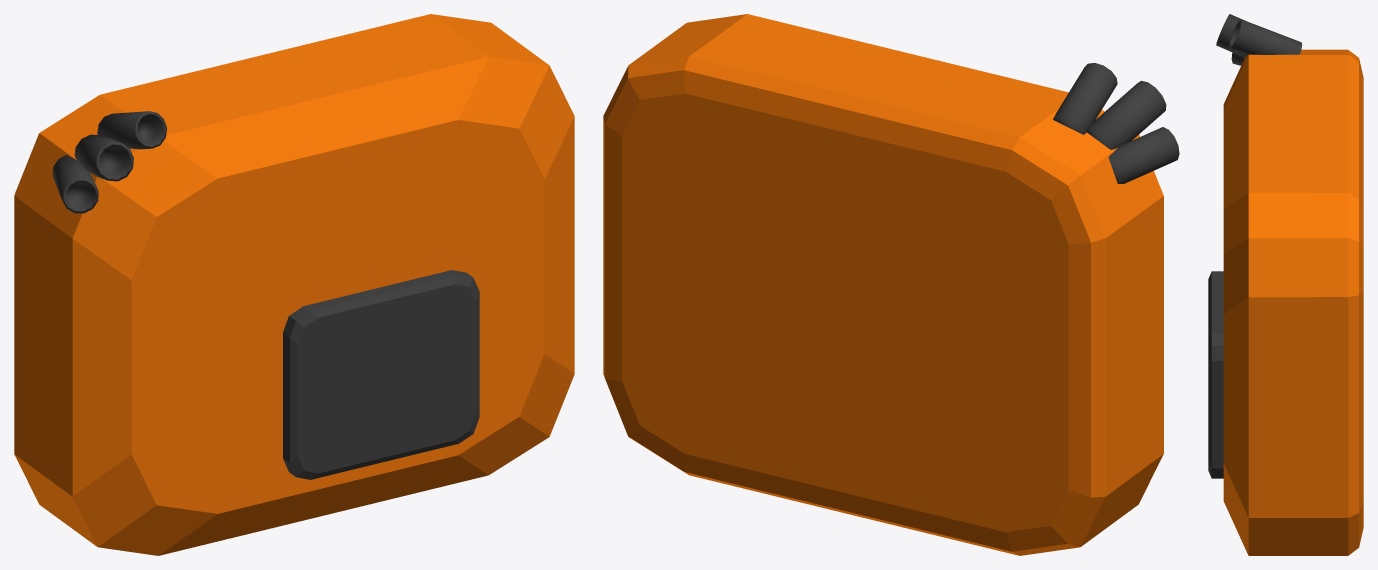
File: Tank_Orange_upperbase.glb
The picture shows the model from 3 angles, left to right: view 1: azimuth 30°, elevation 25°; view 2: azimuth 150°, elevation 25°; view 3: azimuth 270°, elevation 25°; orthographic projection. The views are drawn at different scales.
Parts seen in each view (by area): view 1: Tank_Orange_upperbase; view 2: Tank_Orange_upperbase; view 3: Tank_Orange_upperbase.
Boxes of the visible parts, box(x1,y1,x2,y2) form: Tank_Orange_upperbase: box(14, 14, 574, 555); Tank_Orange_upperbase: box(603, 14, 1179, 555); Tank_Orange_upperbase: box(1208, 14, 1363, 555).
Bounding box in the file's own units: 9.5 × 7.95 × 2.9.
